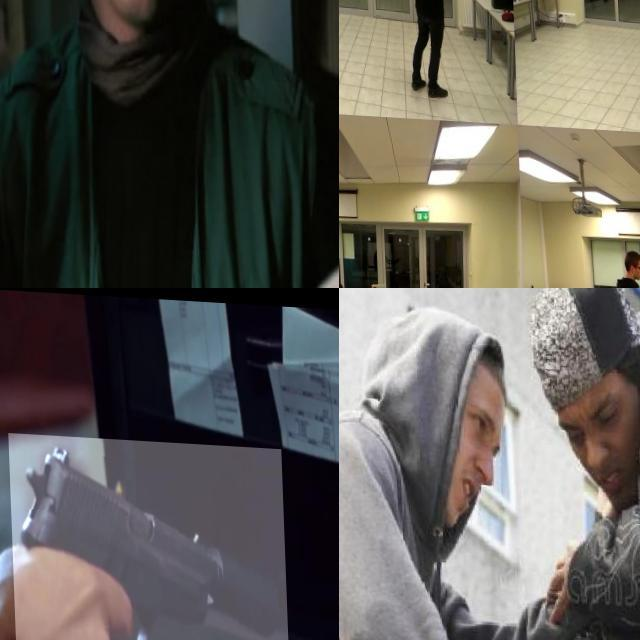gun-knife-thesis - v11 Yolov5 augmented: (7, 431, 291, 640), (360, 276, 379, 288), (479, 0, 499, 10)
